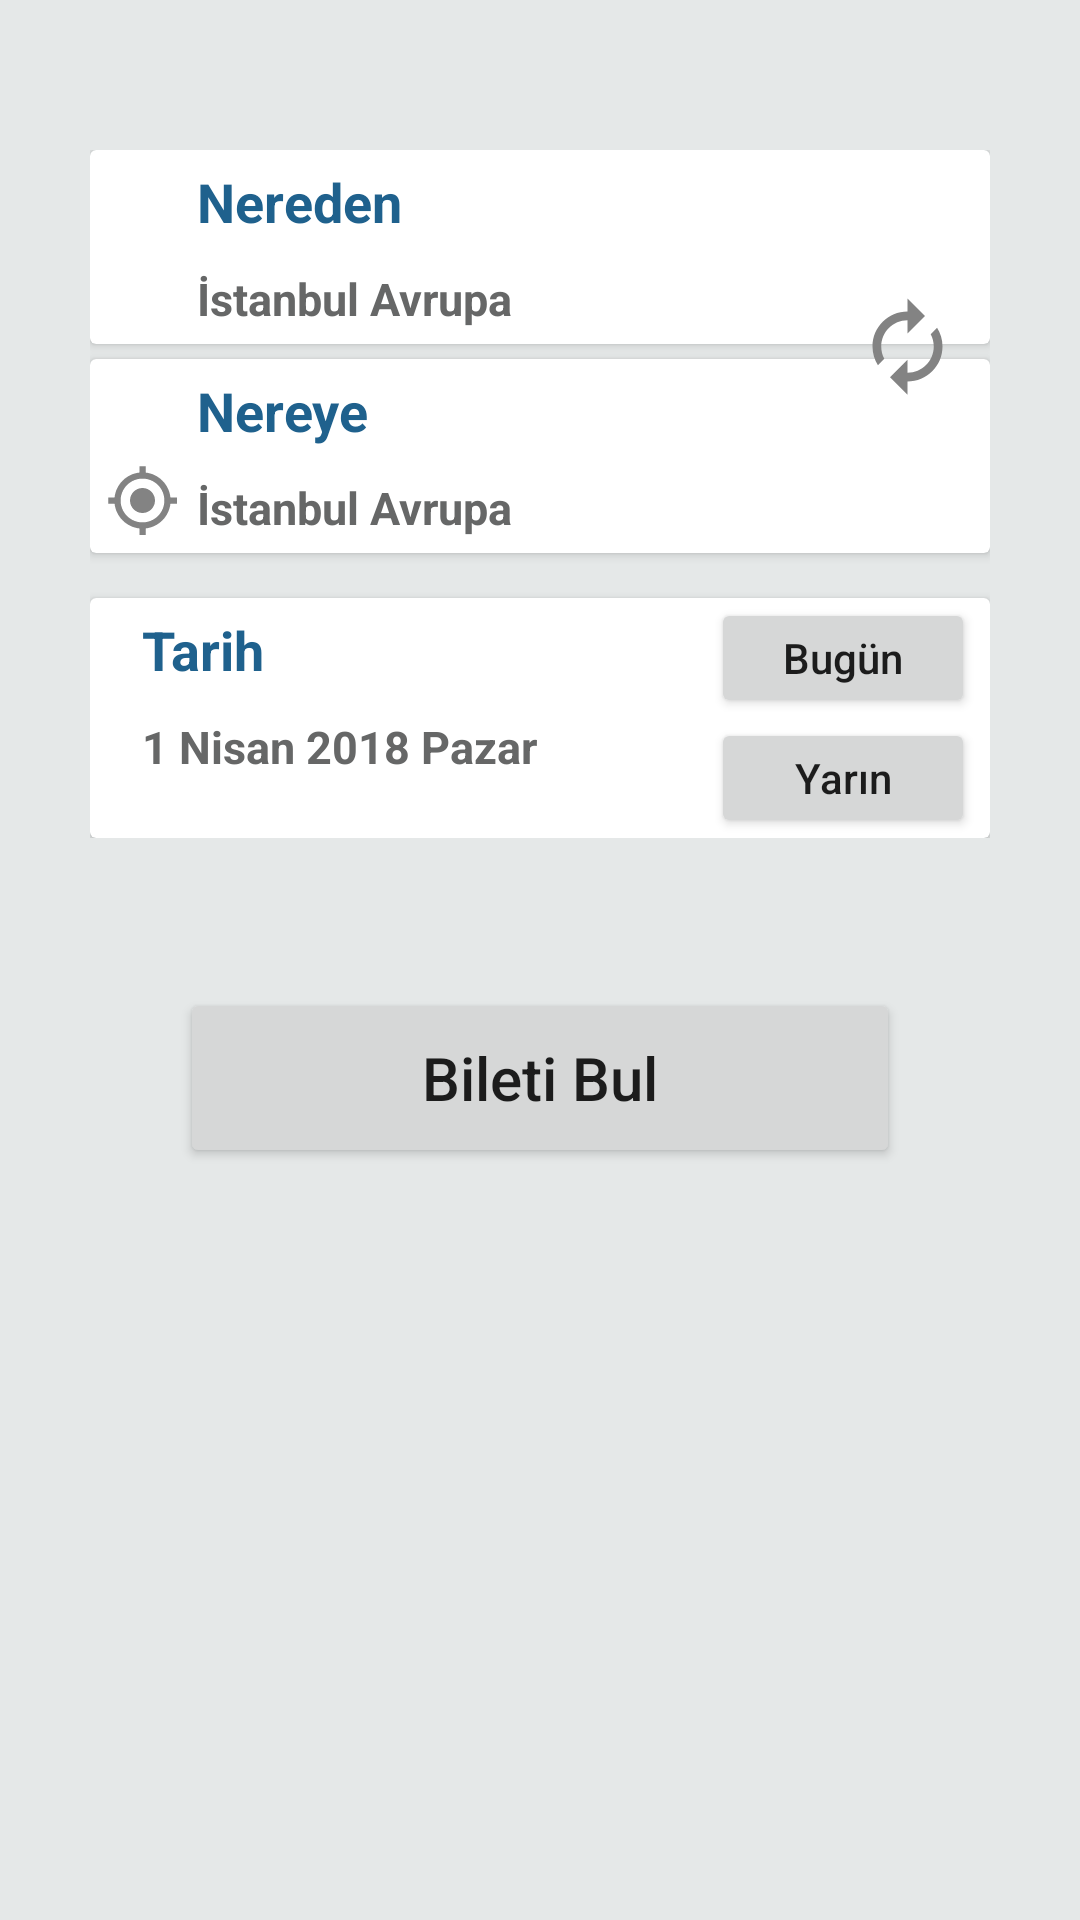

Where icons sit on this 1080w x 1920h app screen, as (x1, y1, x2, y2):
autorenew: (855, 299, 960, 395)
to where: (108, 466, 177, 535)
